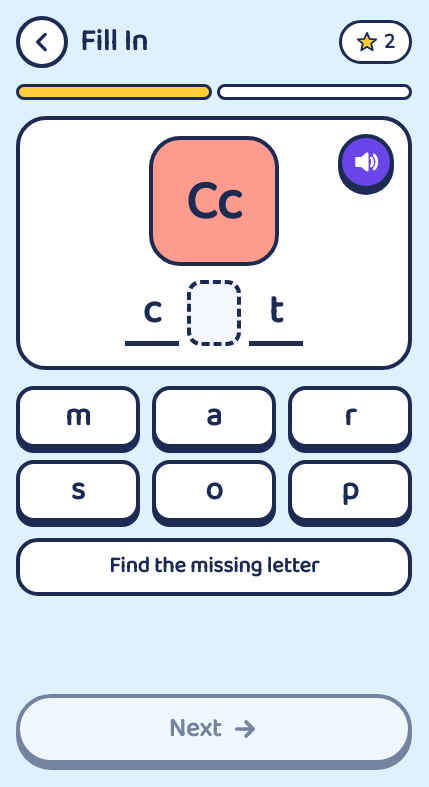
Test: FillIn screen › shakes on a wrong letter, lets the box be cleared, then solves
Expected: the text "Find the missing letter" is shown, [16,538,412,596]
Click the button named "Letter m": (78,417) [16,386,140,448]
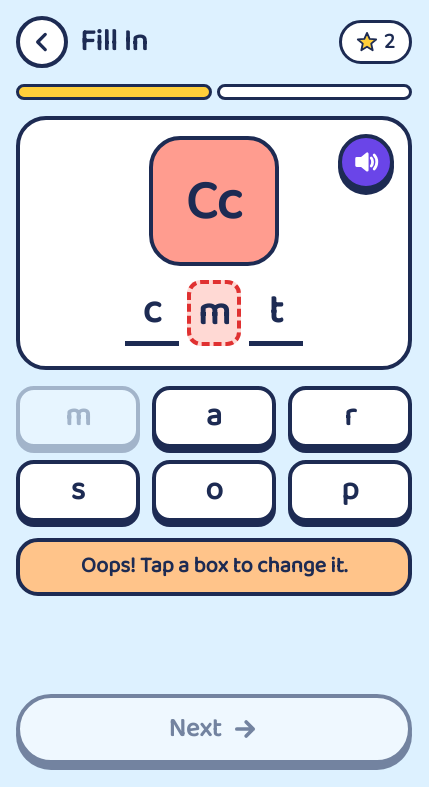
Expected: the message reads "Oops! Tap a box to change it.", [81,548,347,584]
Expected: the button named "Letter m" is disabled, [16,386,140,448]
Click the button named "Letter m, tap to remove": (214,313) [187,280,241,346]
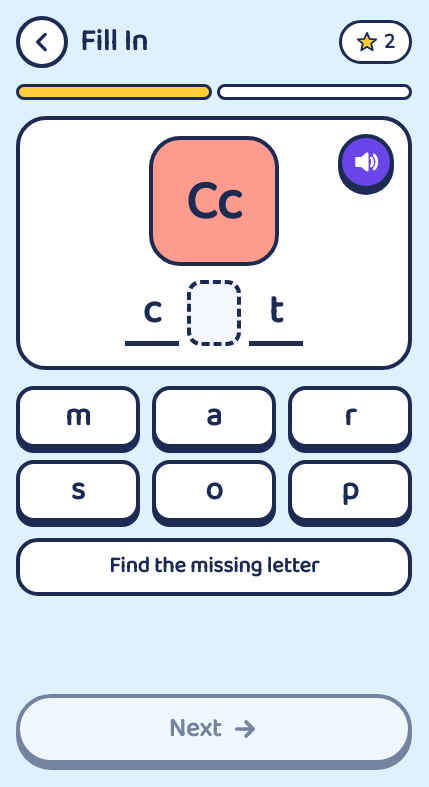
Expected: the button named "Empty box" is shown, [187,280,241,346]
Expected: the button named "Letter m" is enabled, [16,386,140,448]
Click the button named "Letter a": (214,417) [152,386,276,448]
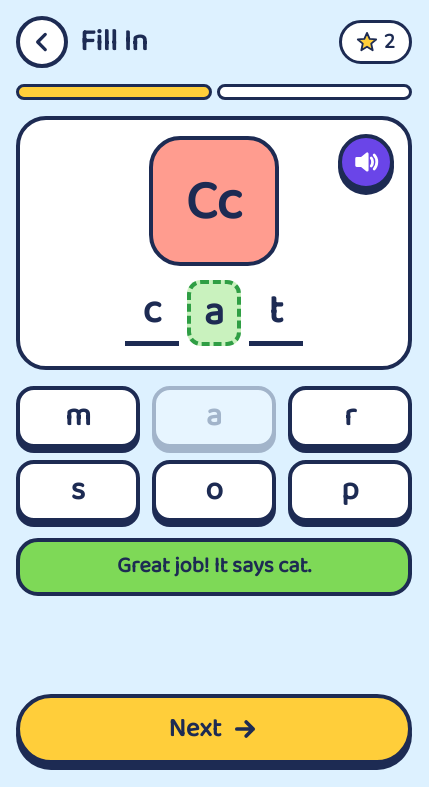
Expected: the message reads "Great job! It says cat.", [117,548,311,584]
Expected: the element with class "fill-in__slots" reads "c a t", [125,280,303,346]
Expected: the button "Next" is enabled, [16,694,412,764]
